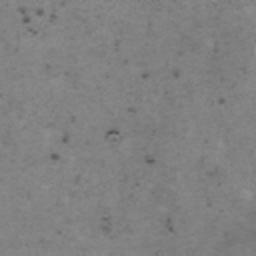Oxide scale of temperature system: (49, 128, 120, 185), (17, 6, 87, 24), (141, 68, 181, 80), (100, 216, 112, 235), (206, 166, 221, 178), (165, 216, 175, 233), (38, 238, 51, 250), (144, 155, 156, 165), (3, 130, 10, 146), (224, 238, 236, 247), (44, 63, 52, 75), (114, 39, 121, 52)
